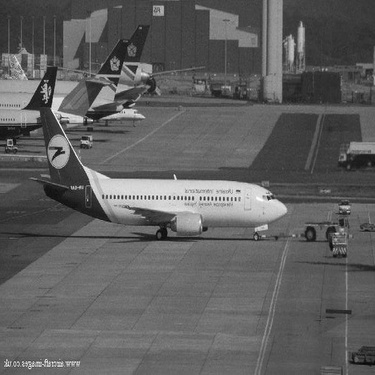airplane: (16, 96, 301, 259), (1, 37, 136, 134), (3, 17, 161, 93), (1, 74, 117, 161), (1, 67, 75, 154)
